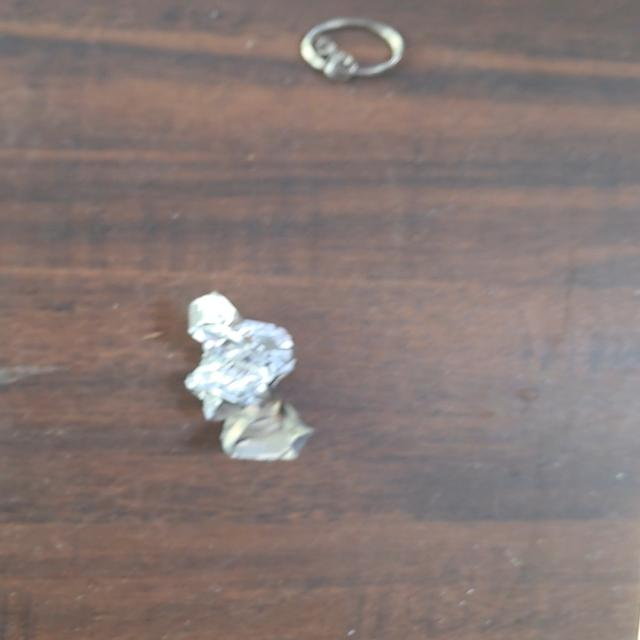Anorganik: (181, 292, 319, 460), (300, 17, 407, 78)
